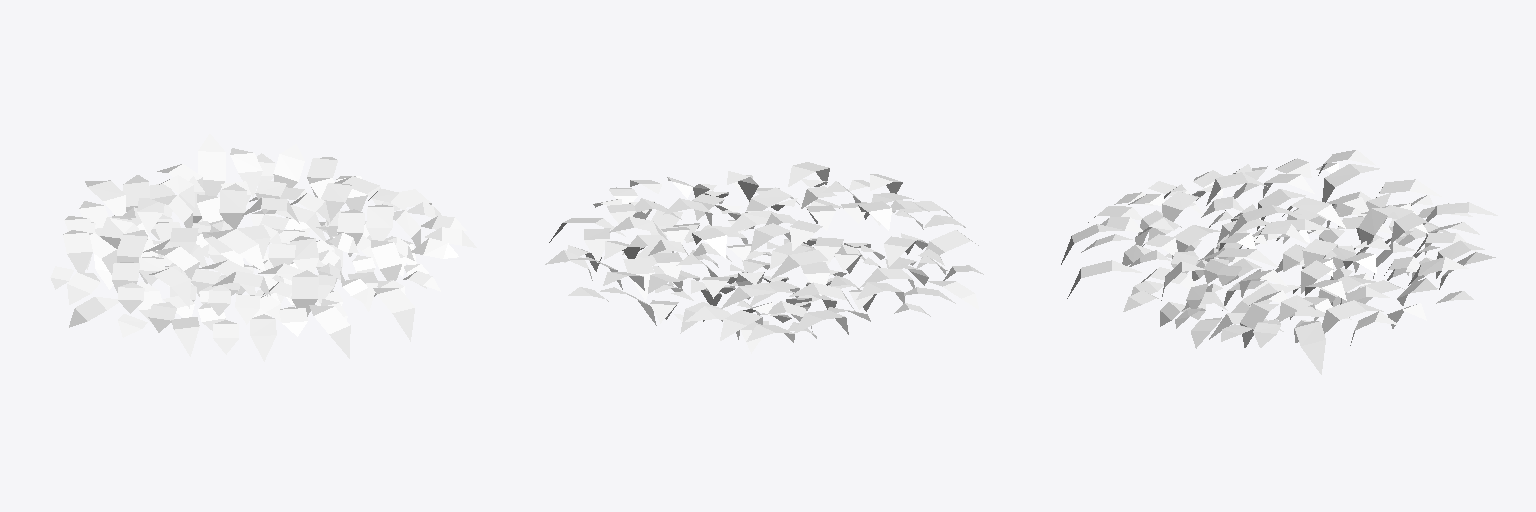
The model's file is foliageRockRing.obj.
The picture shows the model from 3 angles: view 1: azimuth 30°, elevation 25°; view 2: azimuth 150°, elevation 25°; view 3: azimuth 270°, elevation 25°; orthographic projection.
Parts seen in each view (by area): view 1: foliageRockRing.obj; view 2: foliageRockRing.obj; view 3: foliageRockRing.obj.
Part boxes in pixels (left/top/right/bottom): foliageRockRing.obj: left=50, top=134, right=476, bottom=361; foliageRockRing.obj: left=545, top=162, right=983, bottom=353; foliageRockRing.obj: left=1061, top=150, right=1497, bottom=374.
Bounding box in the file's own units: 3.85 × 0.6127 × 3.68.